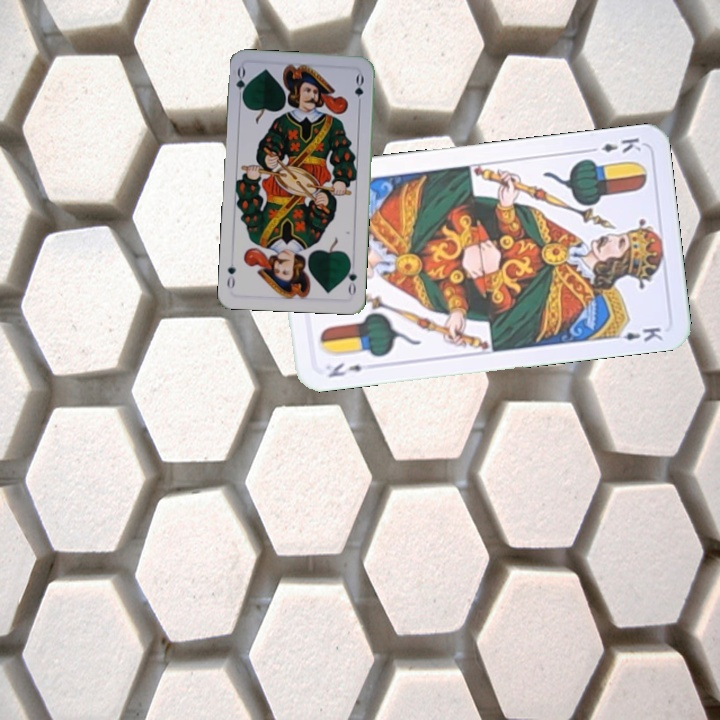EK: (584, 133, 644, 155), (324, 358, 365, 380)
GO: (232, 64, 250, 104), (342, 258, 359, 298)
